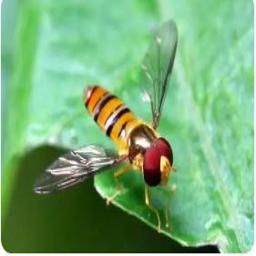liriomyza: (31, 18, 179, 203)
